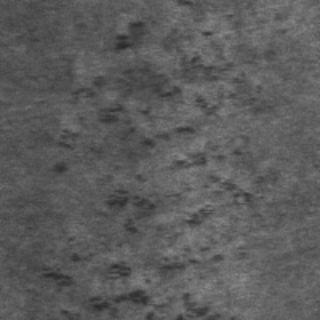rolled pit: (70, 19, 240, 315), (93, 9, 257, 146)
